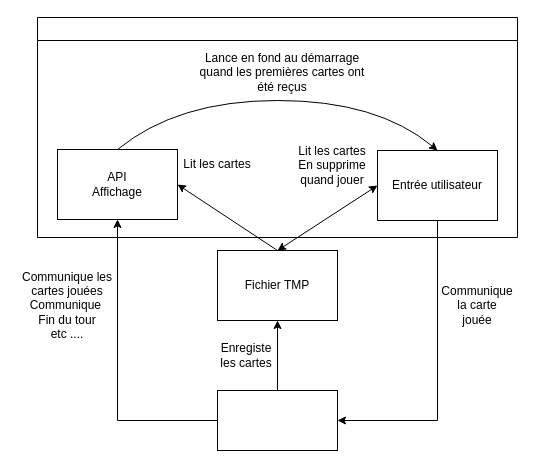
This 535x468 diagram has some shape labels left out. The centre of each missing label's shape, as x and y in pixels:
"Gestion Jeu" belongs at point 277,420.
"Joueur Humain" belongs at point 277,127.
